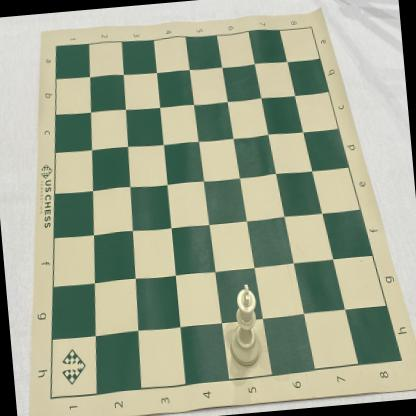king: (225, 283, 263, 369)
